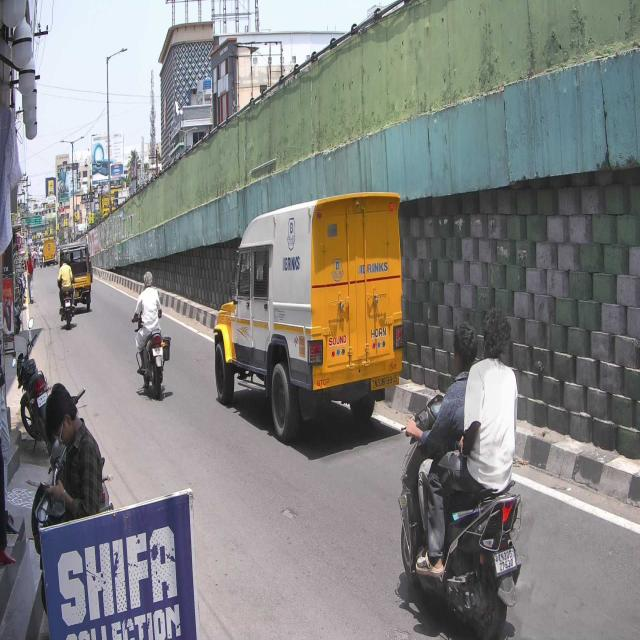double_rider: (398, 307, 524, 640)
